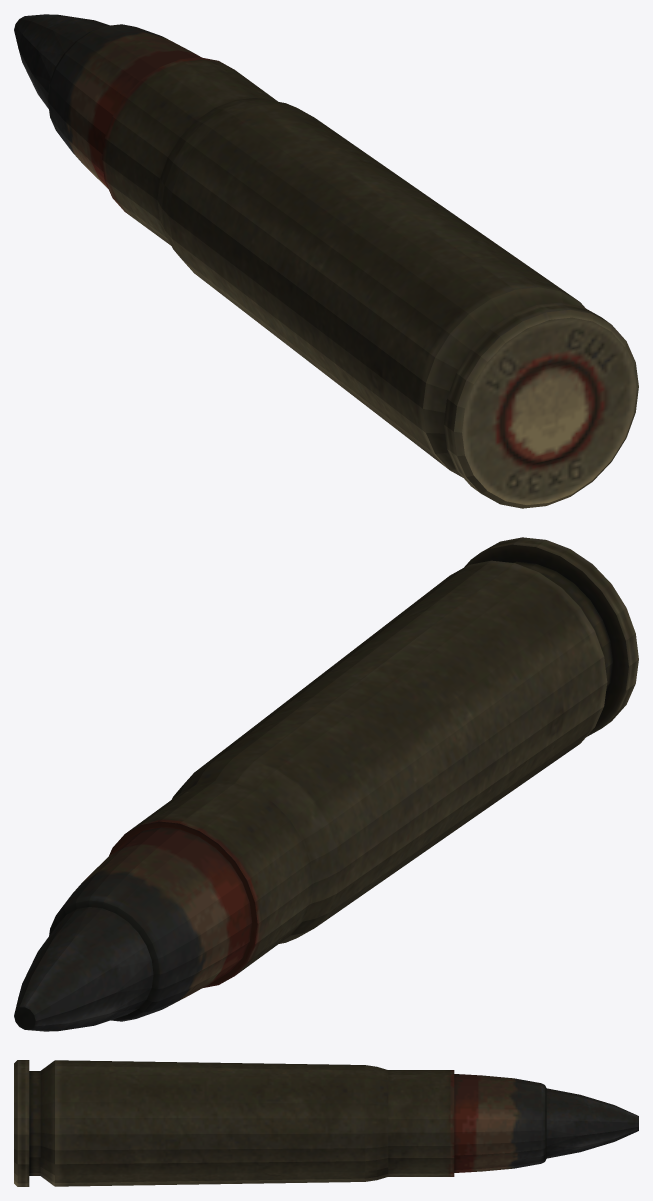
The picture shows the model from 3 angles, top to bottom: view 1: azimuth 30°, elevation 25°; view 2: azimuth 150°, elevation 25°; view 3: azimuth 270°, elevation 25°; orthographic projection. The views are drawn at different scales.
Parts seen in each view (by area): view 1: TW_61962d879bb3d20b0946d385_PZ_Import; view 2: TW_61962d879bb3d20b0946d385_PZ_Import; view 3: TW_61962d879bb3d20b0946d385_PZ_Import.
Part boxes in pixels (<box>): TW_61962d879bb3d20b0946d385_PZ_Import: <box>14,14,638,508</box>; TW_61962d879bb3d20b0946d385_PZ_Import: <box>14,537,638,1031</box>; TW_61962d879bb3d20b0946d385_PZ_Import: <box>14,1060,638,1186</box>.
Bounding box in the file's own units: 0.00658 × 0.0323 × 0.00658.
1 material, 1 textured.
